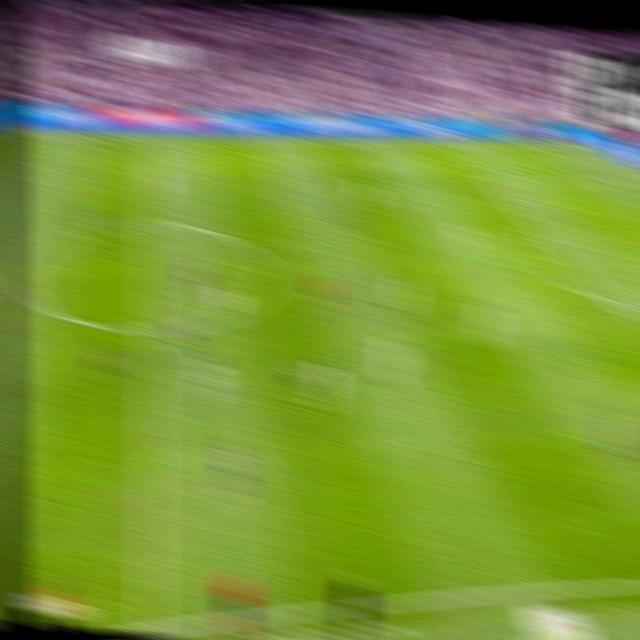bigarea_top_inner: (481, 173, 501, 191)
bigarea_top_outter: (617, 171, 640, 186)
bottom_arc_area_intersection: (603, 290, 628, 311)
corner: (561, 136, 584, 150)
halfcircle_bottom: (137, 314, 165, 345)
halfcircle_top: (137, 209, 164, 238)
midline_bottom_intersection: (135, 610, 167, 637)
midline_top_intersection: (139, 129, 161, 146)
smallarea_top_inner: (629, 213, 640, 226)
top_arc_area_intersection: (528, 219, 550, 237)
